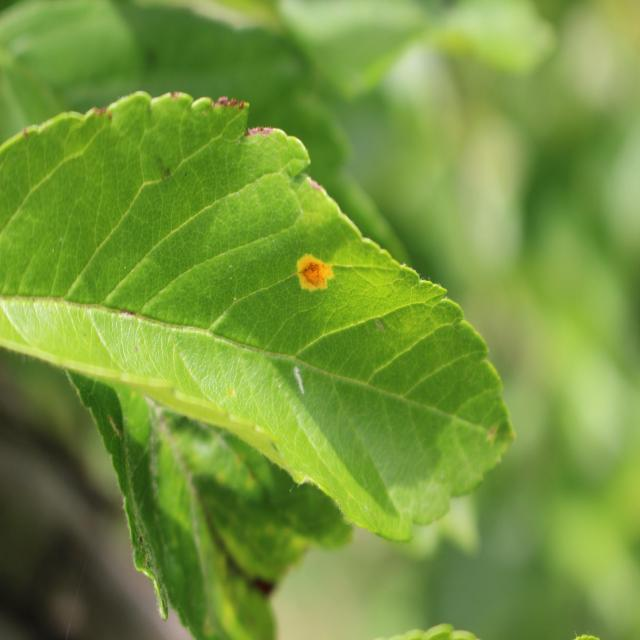Rust: (286, 243, 350, 312)
